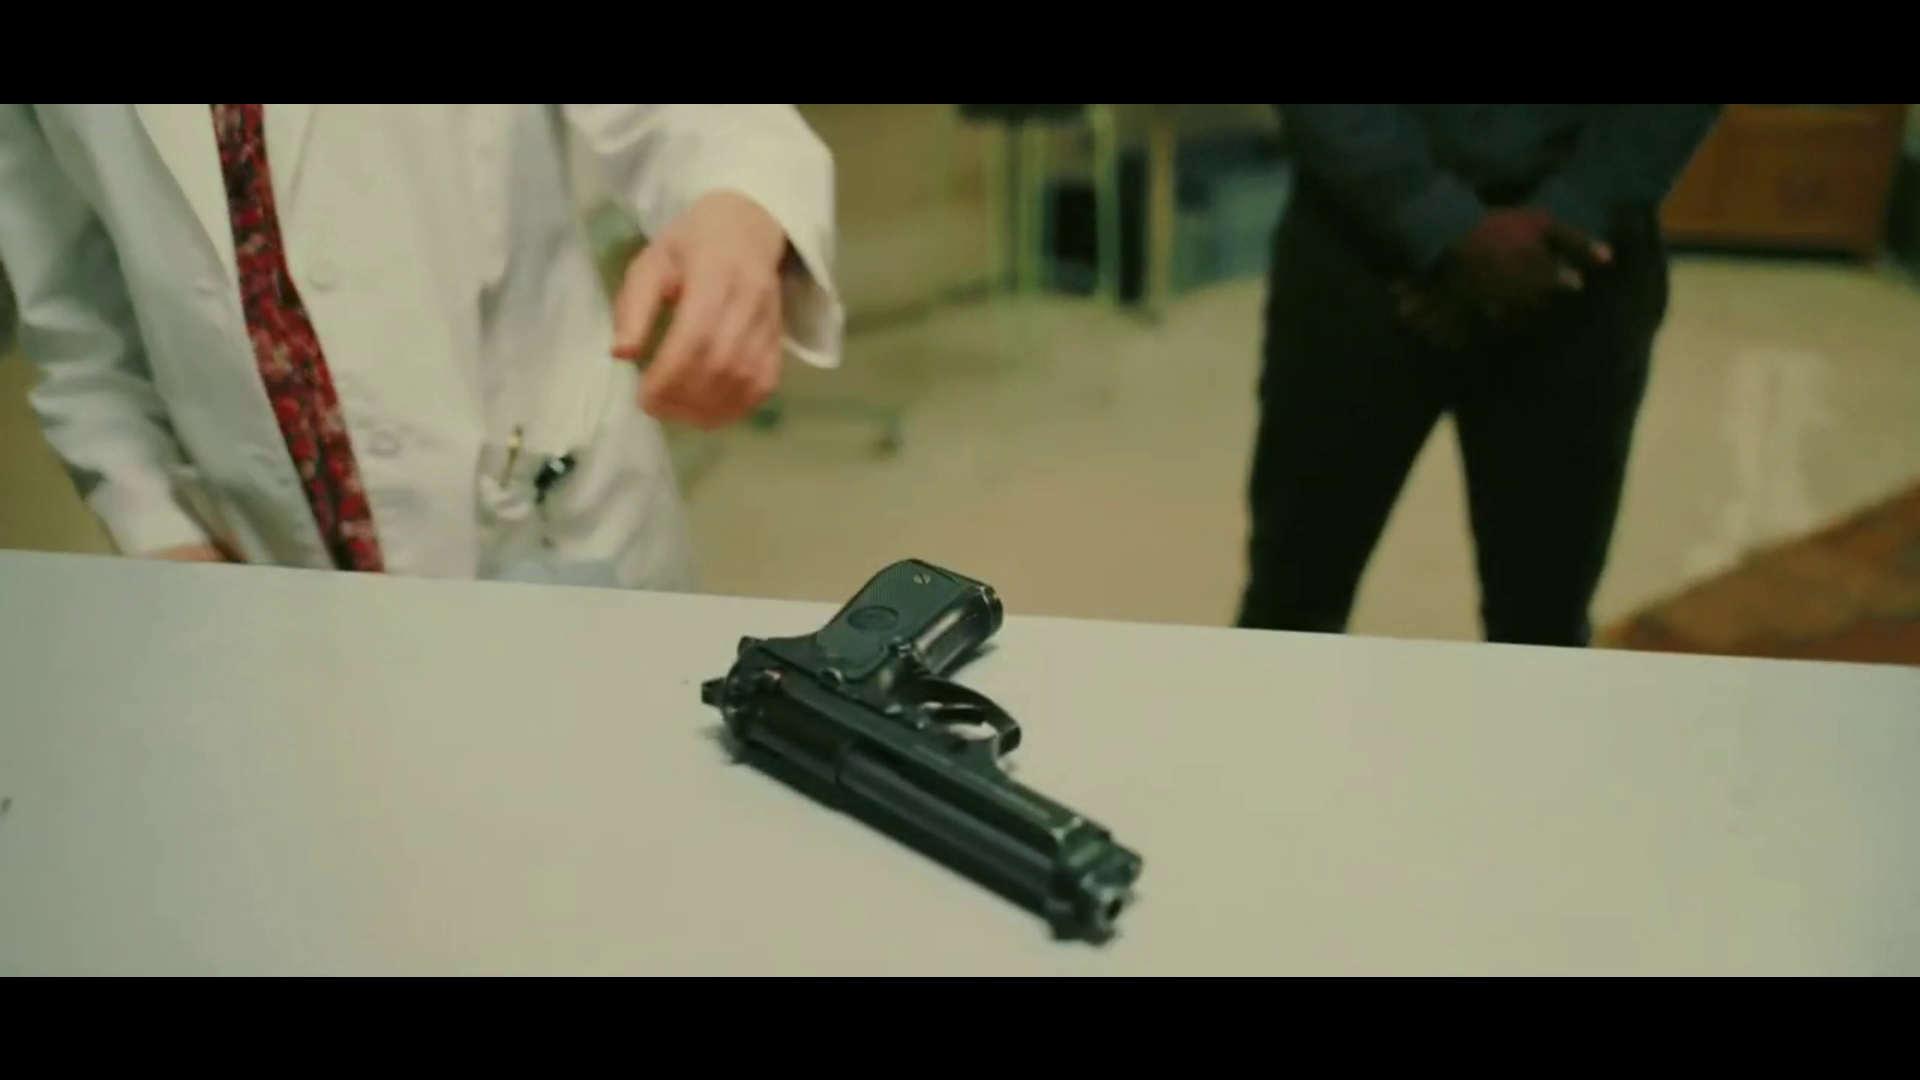SIG P226: (698, 559, 1148, 942)
